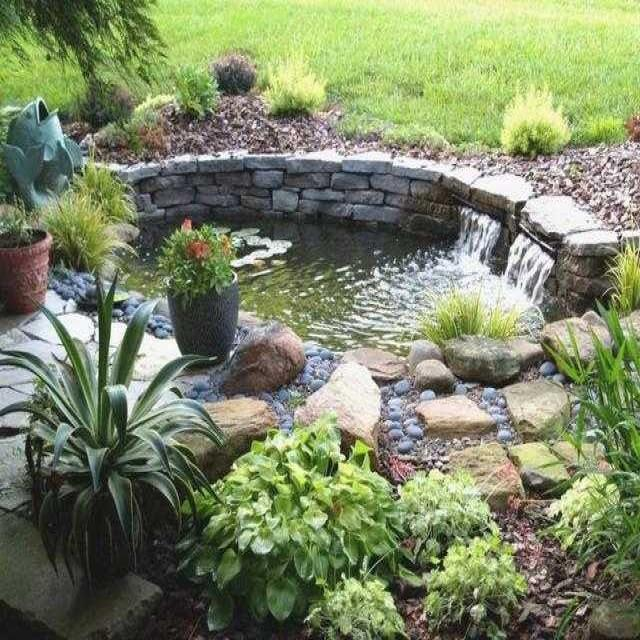Ponds: (77, 148, 640, 397)
